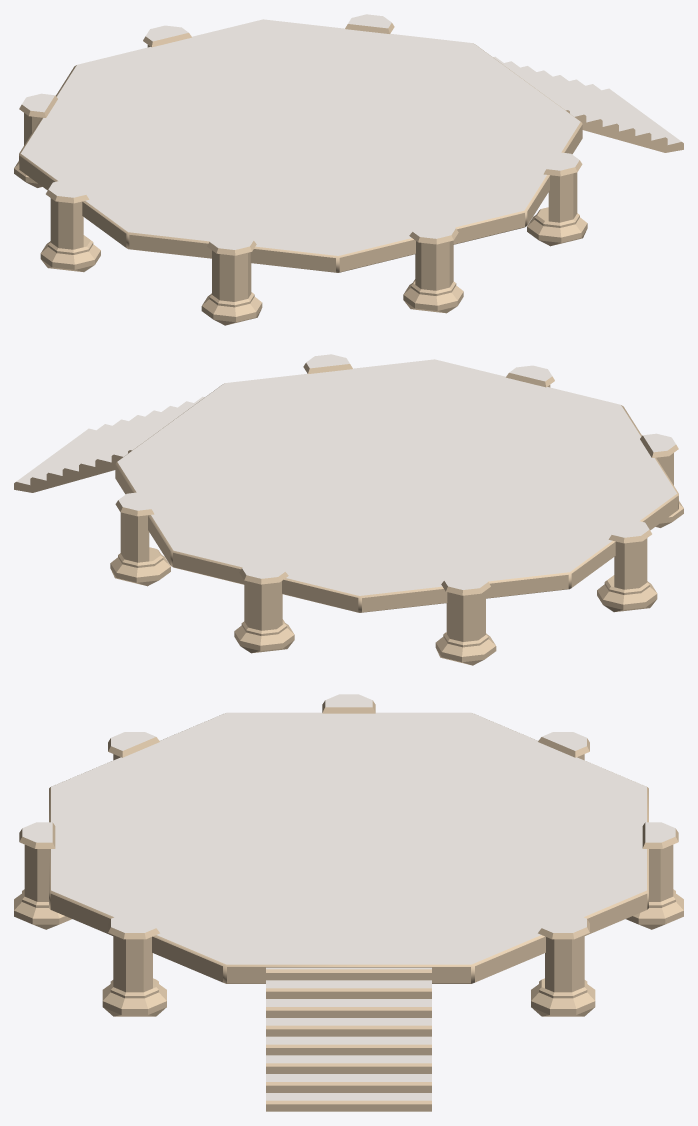
The model's file is summon_platform.glb.
3 renders of one model, top to bottom at view 1: azimuth 30°, elevation 25°; view 2: azimuth 150°, elevation 25°; view 3: azimuth 270°, elevation 25°, orthographic. The views are drawn at different scales.
Visible parts, largest first — view 1: base; view 2: base; view 3: base.
Boxes of the visible parts, x1,y1,x2,y2 form: base: [14, 14, 683, 325]; base: [14, 354, 683, 665]; base: [14, 694, 683, 1111].
Bounding box in the file's own units: 7.39 × 0.8878 × 6.26.
